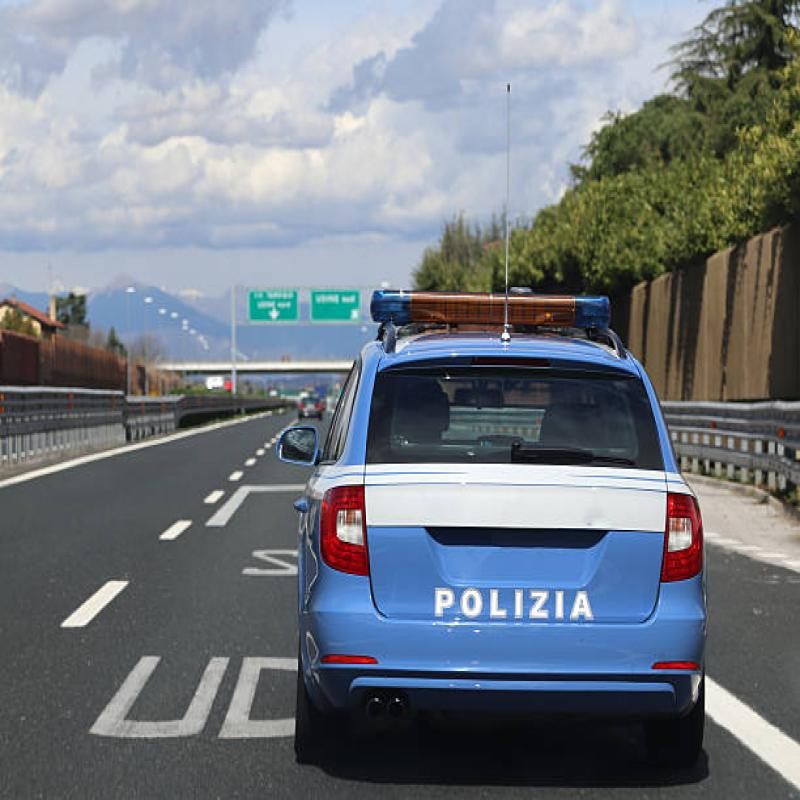AmbulanceSiren: (369, 263, 630, 342)
car: (301, 334, 710, 756)
